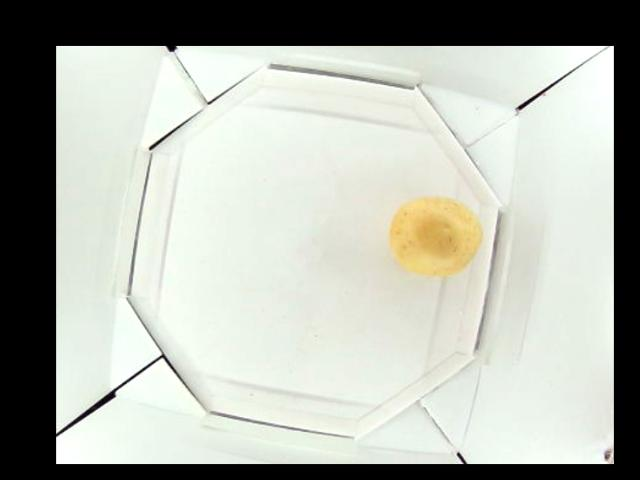Potato: (389, 195, 482, 279)
